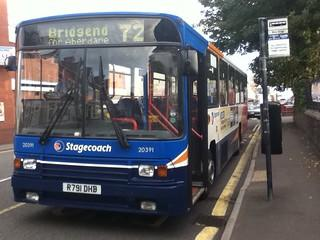bus: (12, 17, 251, 206)
